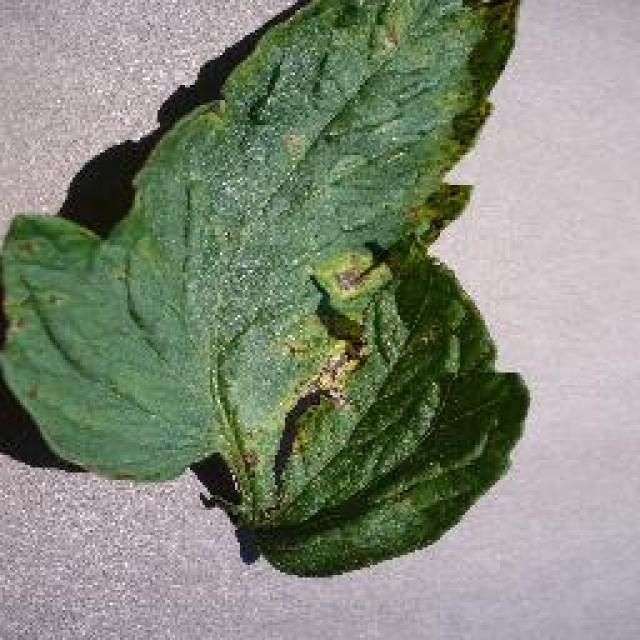Tomato target spot leaf: (0, 0, 535, 585)
